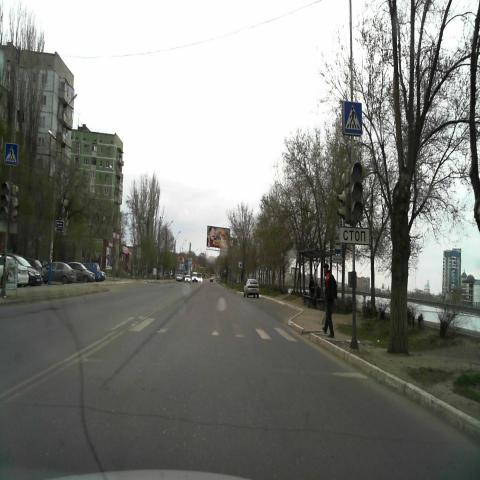6_16: (340, 226, 370, 246)
